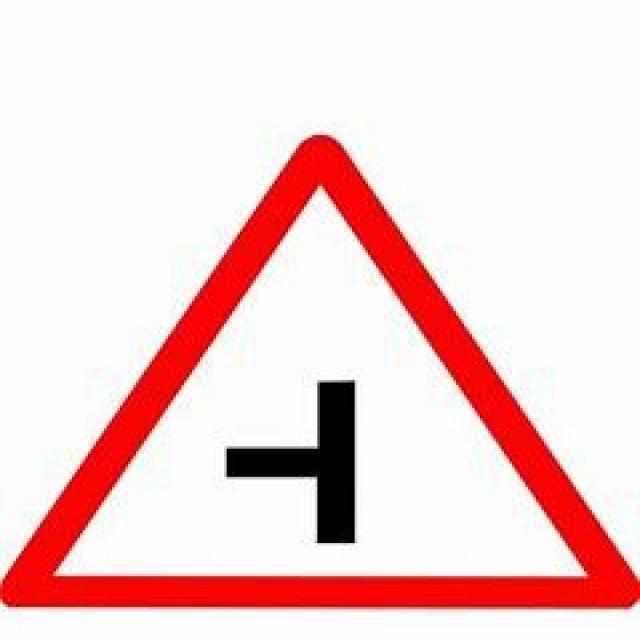side road left: (11, 135, 620, 608)
